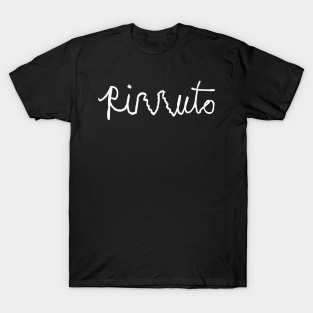design: (96, 78, 217, 122)
